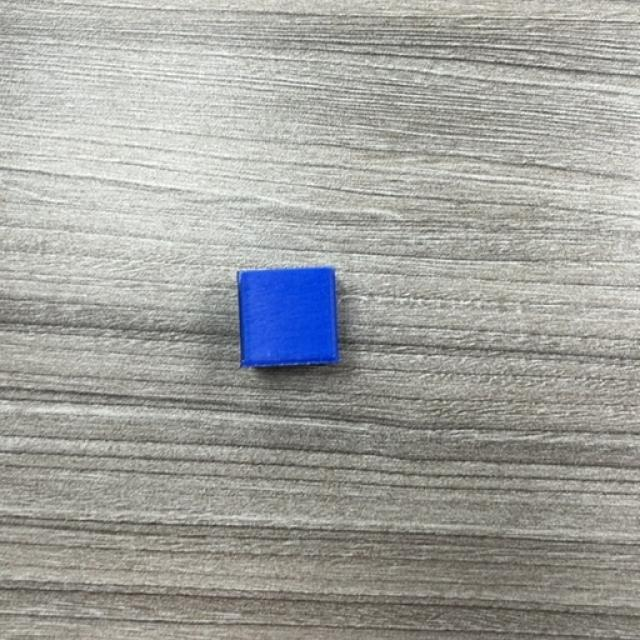Azul: (238, 268, 340, 370)
